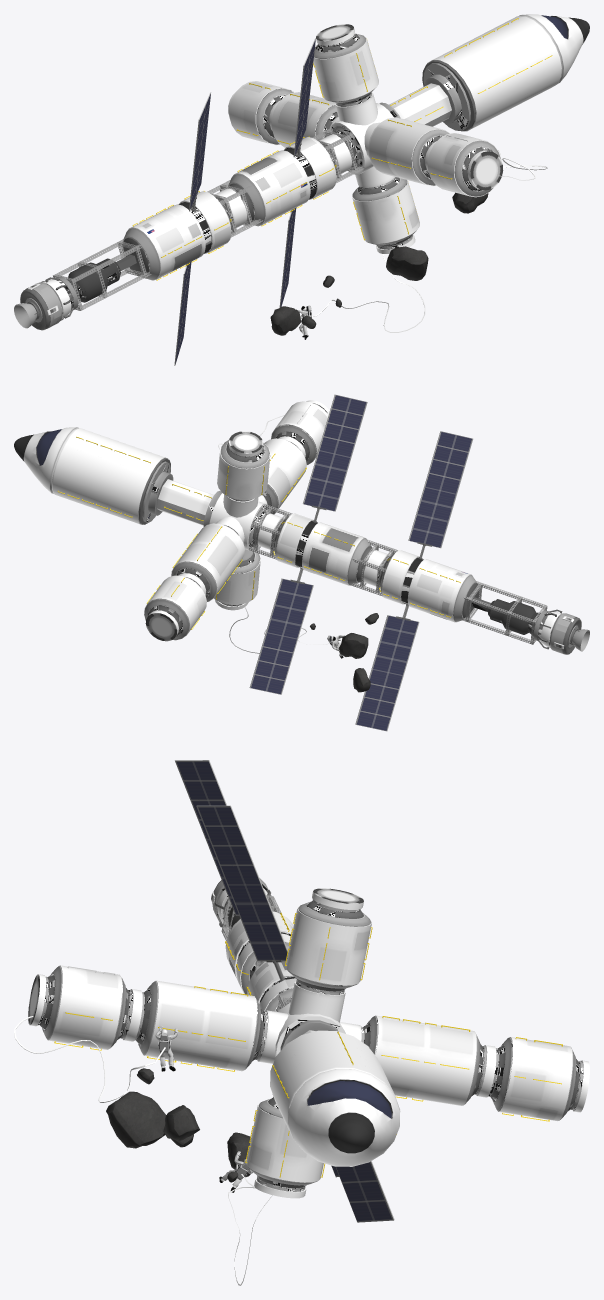
The model's file is explorative_space_craft.glb.
3 views of the same model, one above another, from view 1: azimuth 30°, elevation 25°; view 2: azimuth 150°, elevation 25°; view 3: azimuth 270°, elevation 25° (orthographic). The views are drawn at different scales.
Parts seen in each view (by area): view 1: polySurface14371; view 2: polySurface14371; view 3: polySurface14371.
Boxes of the visible parts, x1=… form: polySurface14371: x1=14, y1=14, x2=589, y2=365; polySurface14371: x1=14, y1=394, x2=589, y2=731; polySurface14371: x1=14, y1=760, x2=589, y2=1285.
Bounding box in the file's own units: 80.72 × 41.88 × 50.2.
Materials: 6 (5 with a texture image).
